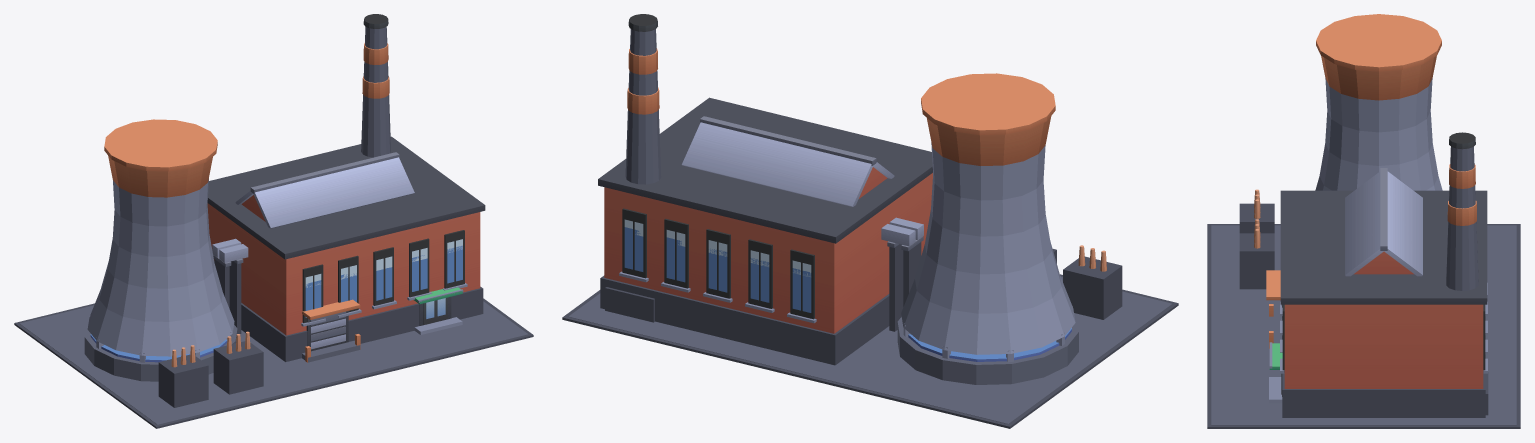
Rendered from ind_thermo_plant_3x2.glb.
3 views of the same model, side by side, from view 1: azimuth 30°, elevation 25°; view 2: azimuth 150°, elevation 25°; view 3: azimuth 270°, elevation 25° (orthographic). The views are drawn at different scales.
Parts seen in each view (by area): view 1: ind_thermo_plant_3x2; view 2: ind_thermo_plant_3x2; view 3: ind_thermo_plant_3x2.
Part boxes in pixels (x1,y1,x2,y2): ind_thermo_plant_3x2: (14,14,533,428); ind_thermo_plant_3x2: (562,14,1178,428); ind_thermo_plant_3x2: (1207,14,1520,428).
Bounding box in the file's own units: 5.76 × 3.55 × 3.76.
Materials: 1 (1 with a texture image).
